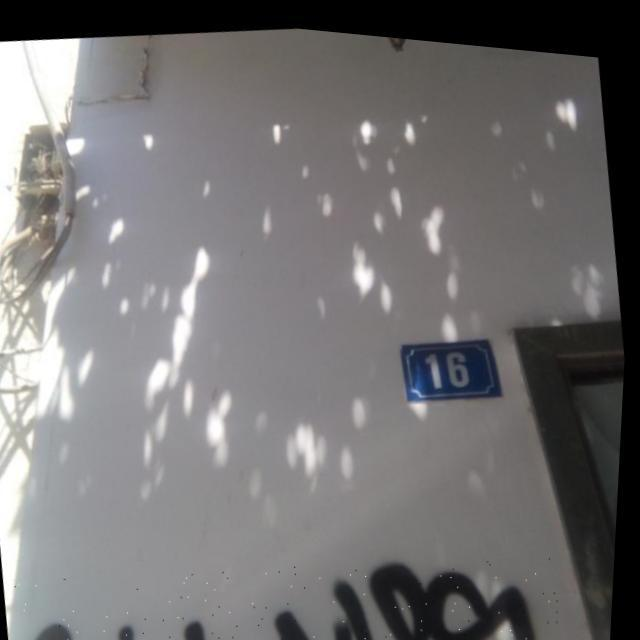-: (7, 502, 574, 640)
